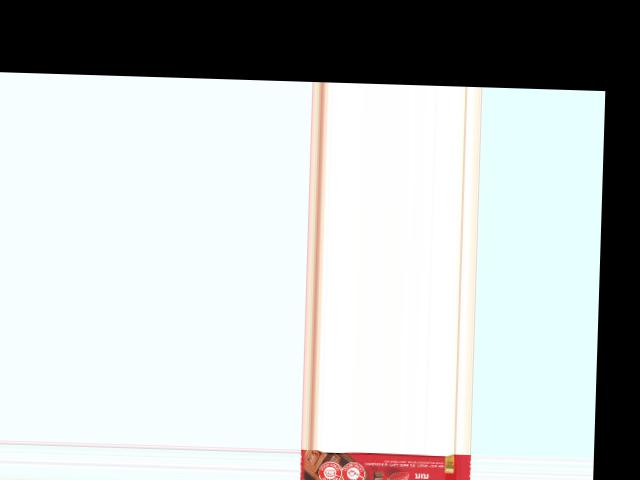chocolate: (299, 449, 472, 480)
